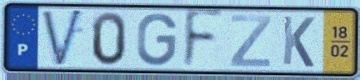0: (89, 10, 129, 69)
F: (181, 8, 227, 73)
G: (135, 11, 179, 68)
K: (280, 14, 316, 70)
V: (39, 7, 86, 70)
Z: (229, 14, 274, 69)
